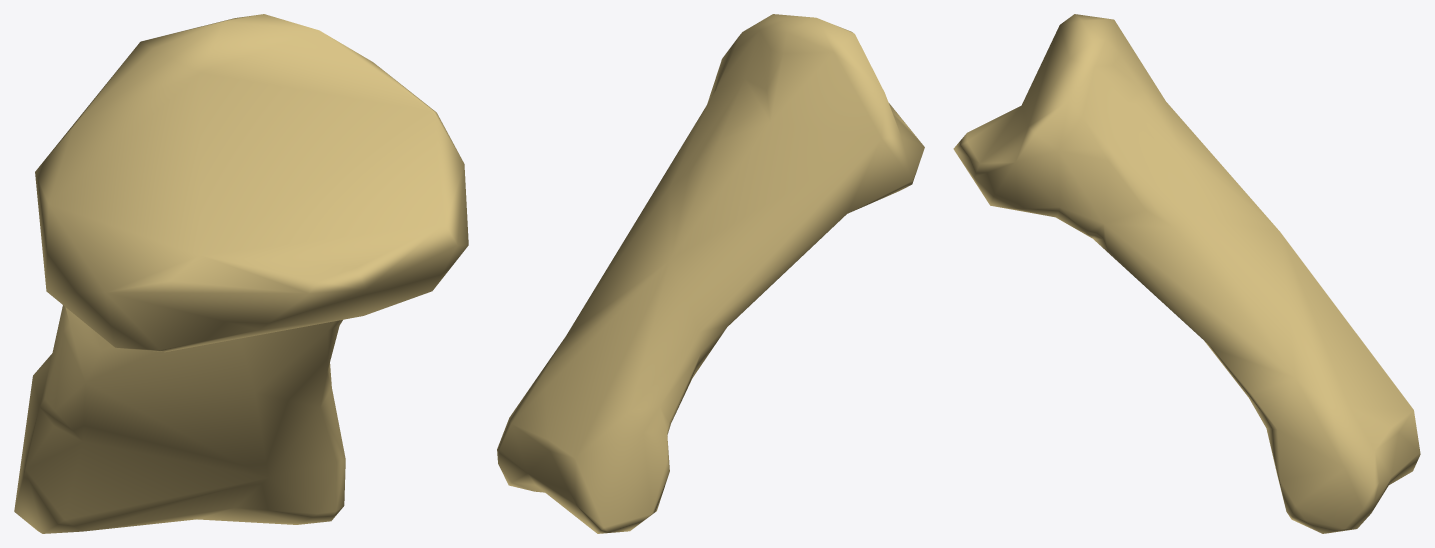
3 renders of one model, left to right at view 1: azimuth 30°, elevation 25°; view 2: azimuth 150°, elevation 25°; view 3: azimuth 270°, elevation 25°, orthographic. The views are drawn at different scales.
Parts seen in each view (by area): view 1: 左侧第二指中节指骨; view 2: 左侧第二指中节指骨; view 3: 左侧第二指中节指骨.
Part boxes in pixels (x1,y1,x2,y2): 左侧第二指中节指骨: [14, 14, 468, 533]; 左侧第二指中节指骨: [497, 14, 924, 533]; 左侧第二指中节指骨: [953, 14, 1420, 533].
Size of the model in its own units: 0.0223 by 0.0319 by 0.0314.
